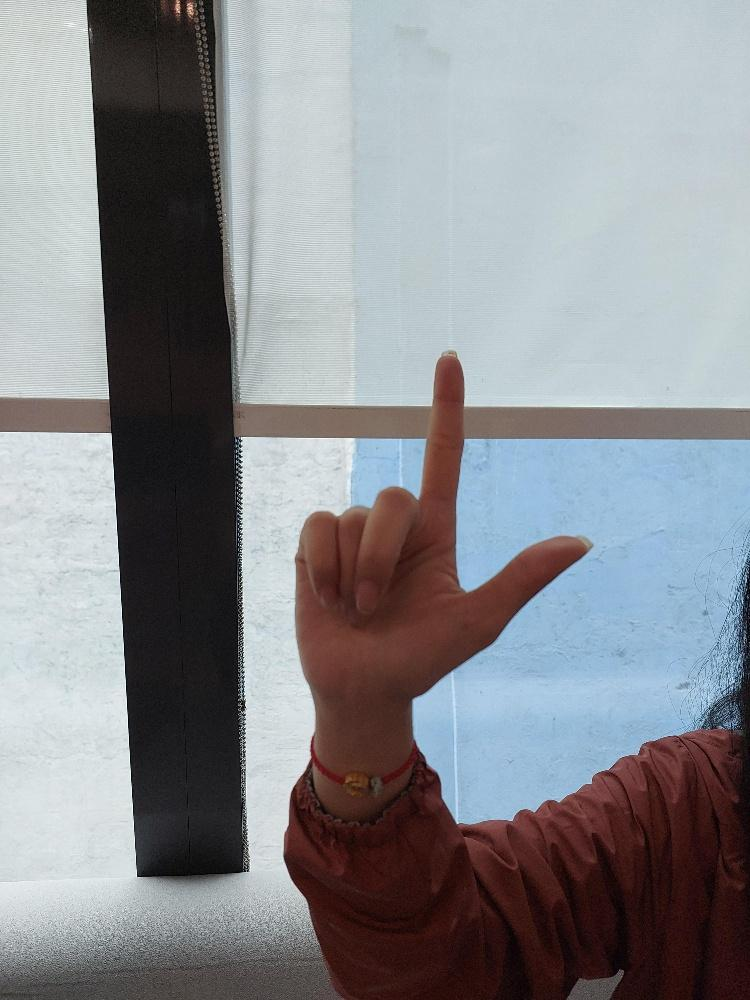l: (294, 346, 591, 704)
